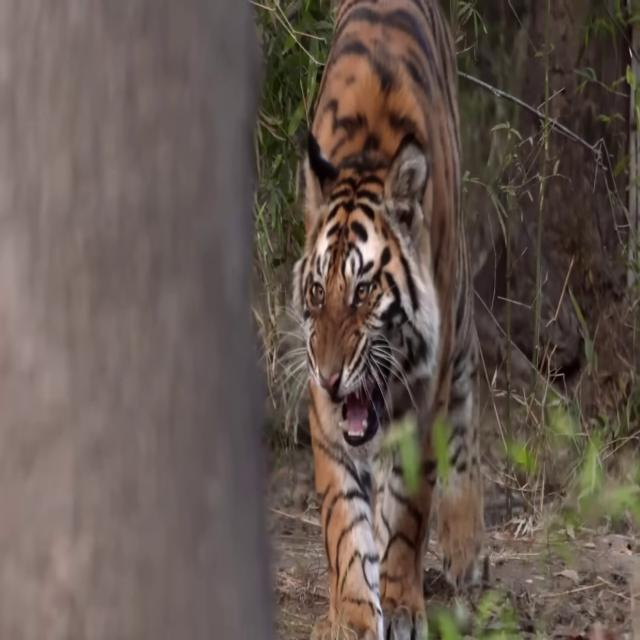tiger: (292, 0, 485, 640)
